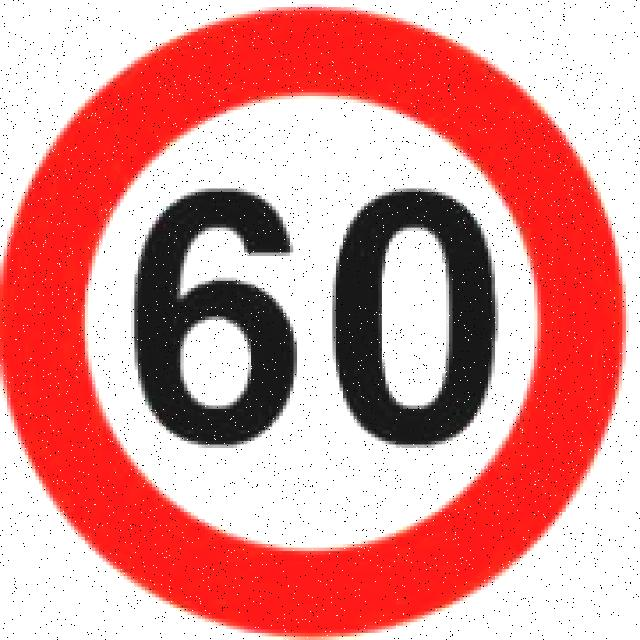Ograniczenie predkosci do 60: (0, 3, 615, 630)
